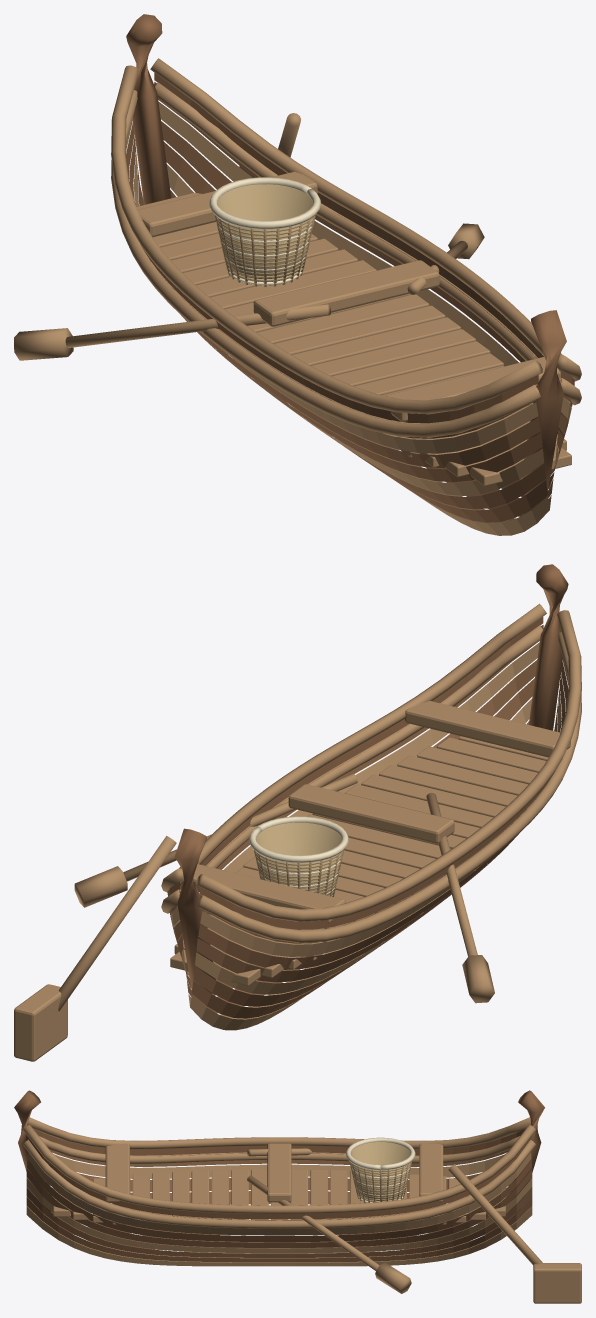
The model's file is fishing-skiff.glb.
3 renders of one model, top to bottom at view 1: azimuth 30°, elevation 25°; view 2: azimuth 150°, elevation 25°; view 3: azimuth 270°, elevation 25°, orthographic. The views are drawn at different scales.
Parts seen in each view (by area): view 1: fishing-skiff__woodlight, fishing-skiff__wood, fishing-skiff__rope, fishing-skiff__linen; view 2: fishing-skiff__woodlight, fishing-skiff__wood, fishing-skiff__rope, fishing-skiff__linen; view 3: fishing-skiff__woodlight, fishing-skiff__wood, fishing-skiff__rope, fishing-skiff__linen.
Boxes of the visible parts, x1,y1,x2,y2 form: fishing-skiff__woodlight: (14, 58, 581, 535); fishing-skiff__wood: (126, 14, 574, 522); fishing-skiff__rope: (215, 184, 315, 285); fishing-skiff__linen: (209, 177, 321, 285); fishing-skiff__woodlight: (14, 603, 581, 1061); fishing-skiff__wood: (167, 564, 568, 1018); fishing-skiff__rope: (254, 822, 343, 896); fishing-skiff__linen: (249, 816, 348, 894); fishing-skiff__woodlight: (23, 1117, 581, 1303); fishing-skiff__wood: (14, 1090, 544, 1262); fishing-skiff__rope: (349, 1142, 411, 1202); fishing-skiff__linen: (346, 1137, 415, 1202).
Bounding box in the file's own units: 3.34 × 1.91 × 5.62.
